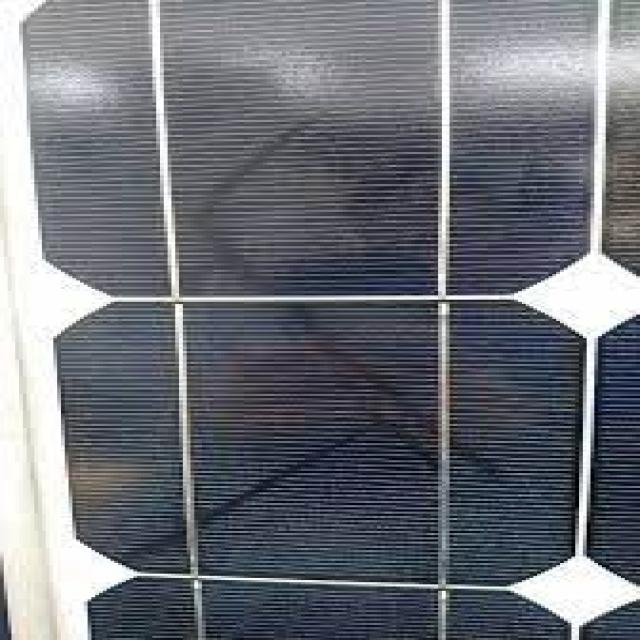faulty: (20, 3, 640, 640)
